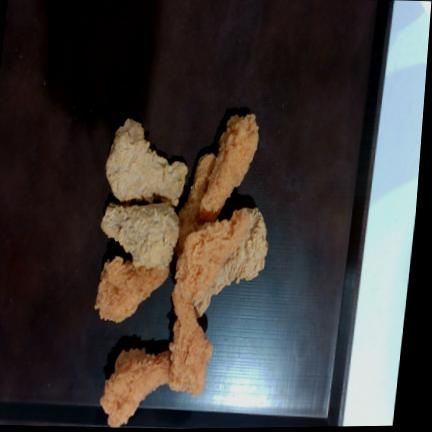chicken: (195, 208, 268, 316), (174, 208, 250, 305), (107, 119, 187, 207), (200, 114, 259, 221), (101, 348, 171, 427), (101, 202, 179, 269), (95, 256, 170, 322), (169, 303, 213, 396)
